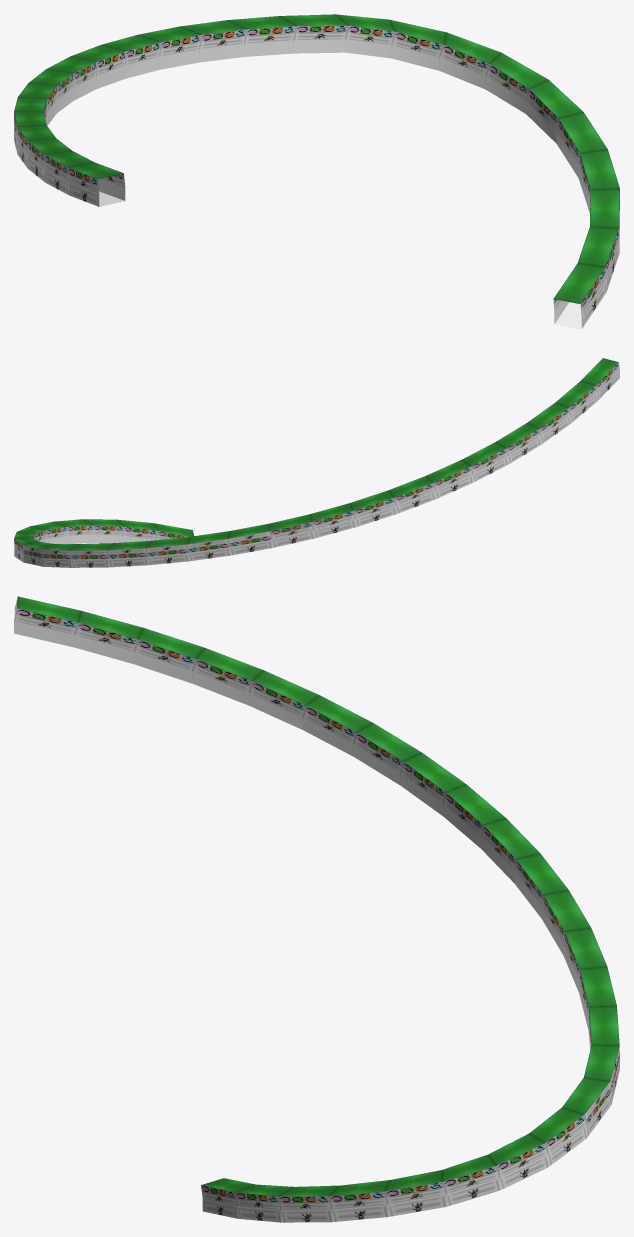
Rendered from CourseAki_Wall_R_6.fbx.
3 renders of one model, top to bottom at view 1: azimuth 30°, elevation 25°; view 2: azimuth 150°, elevation 25°; view 3: azimuth 270°, elevation 25°, orthographic. The views are drawn at different scales.
Parts seen in each view (by area): view 1: polySurface351; view 2: polySurface351; view 3: polySurface351.
Part boxes in pixels (x1=…): polySurface351: x1=14, y1=14, x2=619, y2=329; polySurface351: x1=14, y1=358, x2=619, y2=567; polySurface351: x1=14, y1=596, x2=619, y2=1222.
Bounding box in the file's own units: 55.13 × 26.98 × 42.89.
1 material, 1 textured.
